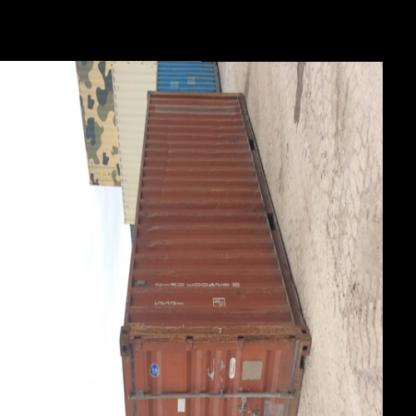Damage: (129, 319, 299, 349), (156, 116, 196, 188), (138, 214, 162, 262)
